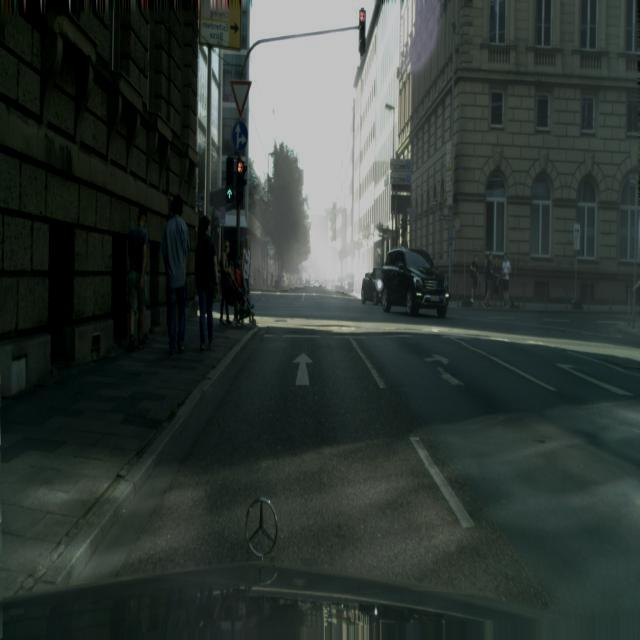person: (160, 194, 190, 356), (194, 213, 218, 350), (128, 206, 149, 351), (219, 240, 234, 325), (231, 257, 245, 326), (242, 236, 253, 317), (501, 252, 511, 309), (484, 254, 493, 308), (470, 256, 478, 303)
truck: (380, 246, 448, 318), (361, 267, 384, 304)
